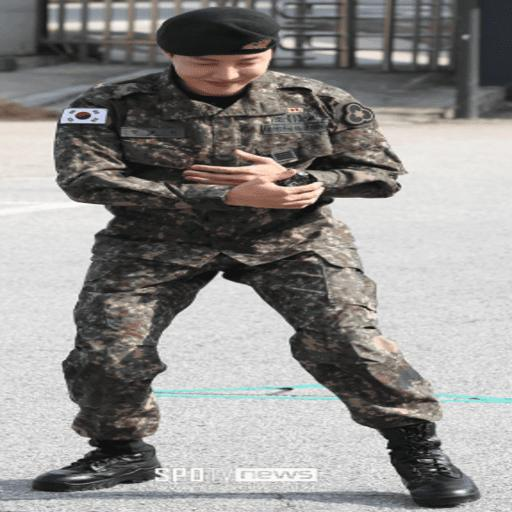korea army: (31, 6, 481, 507)
